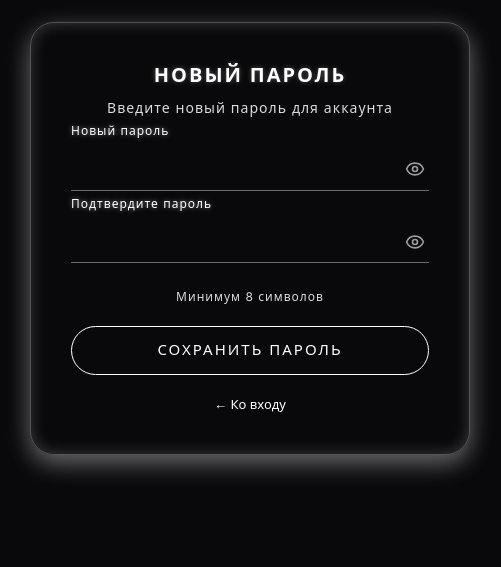
Test case: ResetPassword › with token › shows error when passwords do not match
Type "password123" into the password field labelled "Новый пароль" at point(250, 167), box [71,143,429,190]
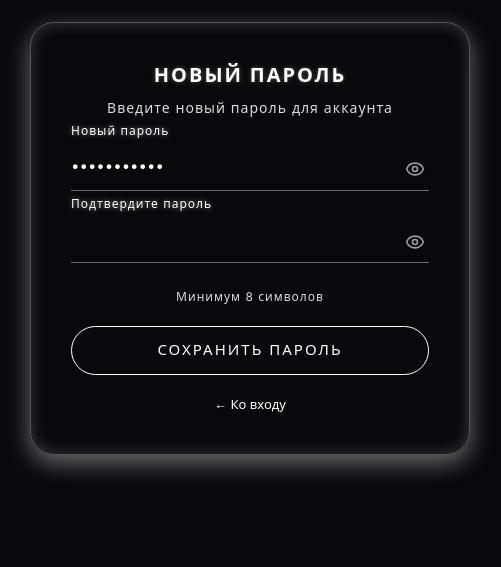
Type "different123" into the password field labelled "Подтвердите пароль" at point(250, 239), box [71,216,429,263]
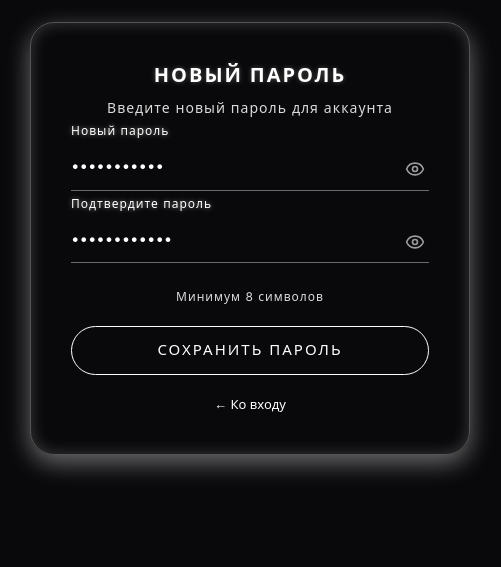
Submit the form labelled "Новый пароль", box [71,143,429,374]
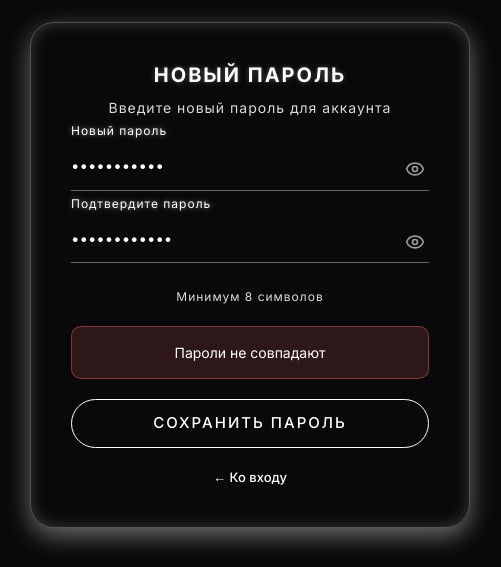
Now the text "Пароли не совпадают" is shown, box [71,326,429,379]
